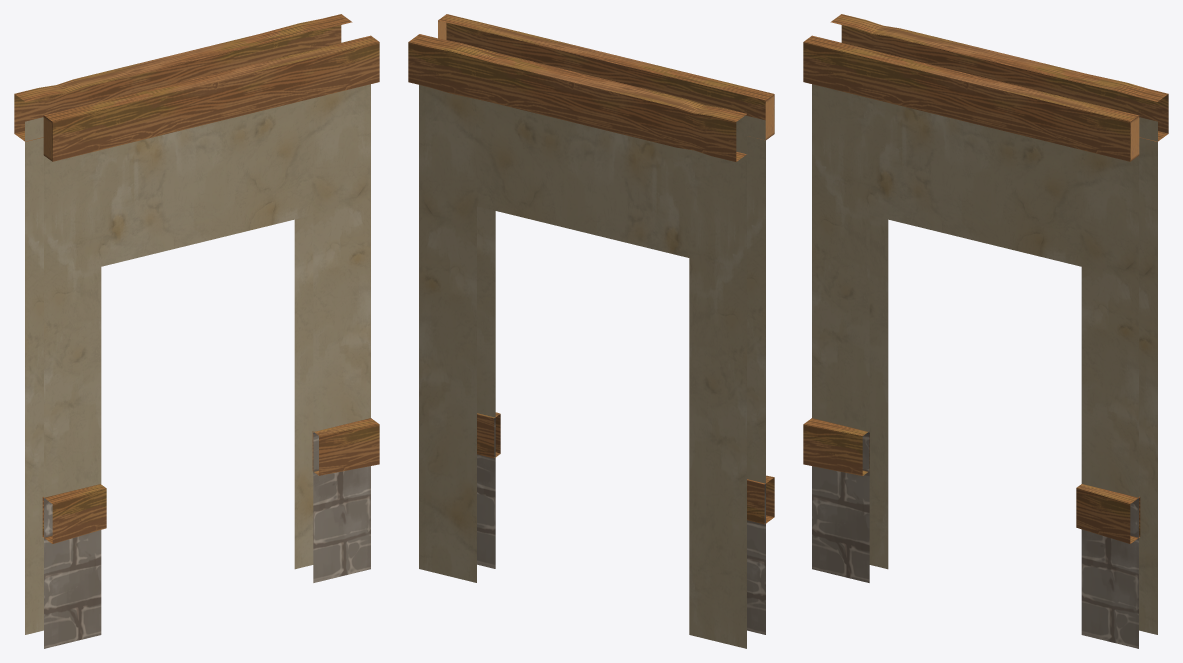
File: Wall_Plaster_Door_Flat.gltf
The picture shows the model from 3 angles, left to right: view 1: azimuth 30°, elevation 25°; view 2: azimuth 150°, elevation 25°; view 3: azimuth 330°, elevation 25°; orthographic projection.
Visible parts, largest first — view 1: Wall_Plaster_Door_Flat; view 2: Wall_Plaster_Door_Flat; view 3: Wall_Plaster_Door_Flat.
Part boxes in pixels (x1,y1,x2,y2): Wall_Plaster_Door_Flat: (14,14,379,648); Wall_Plaster_Door_Flat: (408,14,774,648); Wall_Plaster_Door_Flat: (803,14,1168,648).
Bounding box in the file's own units: 2 × 3.12 × 0.4065.
3 materials, 3 textured.
